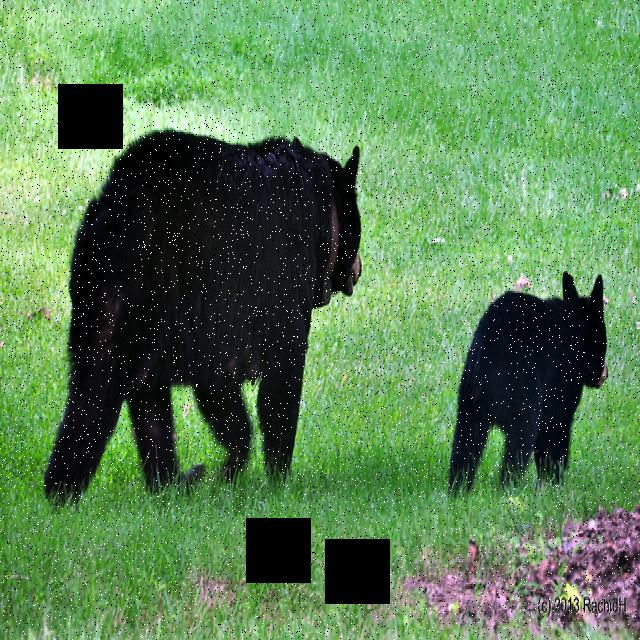Bear: (56, 117, 360, 495), (449, 258, 610, 477)
